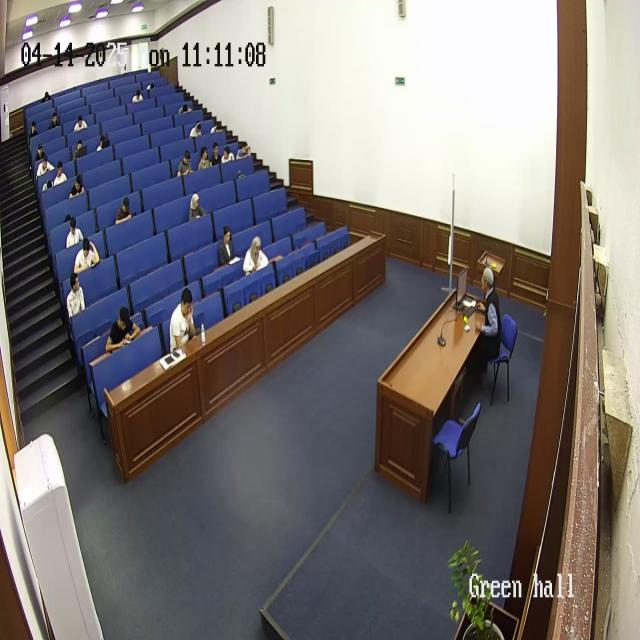person: (470, 266, 503, 388), (168, 287, 198, 353), (105, 305, 141, 353), (243, 234, 269, 276), (73, 238, 101, 276), (66, 273, 86, 321), (217, 224, 236, 267), (65, 215, 83, 248), (187, 191, 205, 222), (114, 195, 132, 225), (176, 149, 194, 177), (36, 152, 54, 180), (67, 172, 85, 198), (51, 162, 68, 188), (71, 139, 87, 161), (197, 146, 210, 170), (236, 141, 252, 160), (96, 133, 110, 152), (210, 145, 222, 166), (34, 143, 46, 164), (73, 115, 87, 133), (189, 121, 202, 140), (221, 145, 234, 163), (49, 111, 60, 130), (210, 118, 222, 134), (41, 90, 53, 106), (29, 116, 37, 139), (178, 102, 192, 115), (131, 88, 143, 103), (146, 81, 156, 92)
